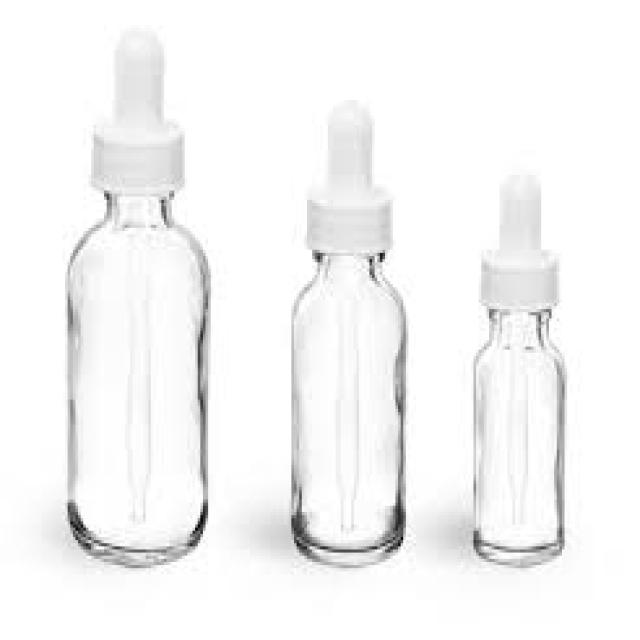glass: (65, 191, 206, 569), (289, 250, 406, 565), (468, 306, 562, 565)
plastic: (91, 25, 182, 187), (305, 97, 391, 250), (479, 172, 557, 306)
